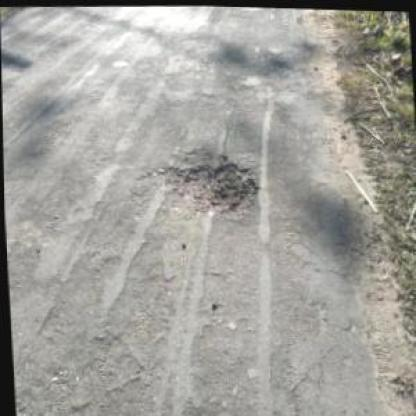pothole: (147, 144, 261, 219)
